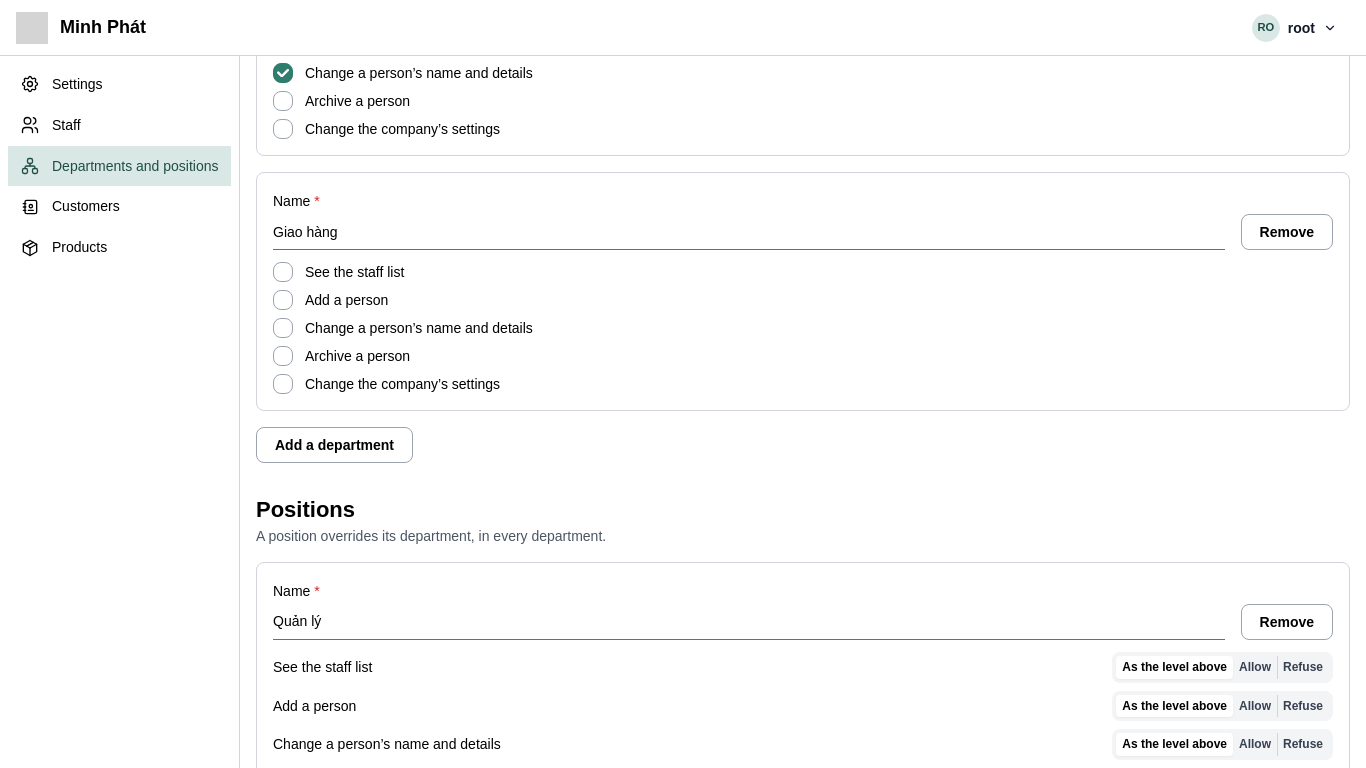
Scenario: Settings by permission › The root gives the permission to a department on the setup page, and its people are offered it
The width and height of the screenshot is (1366, 768).
(page scrolled)
Click the 2nd checkbox labelled "Change the company’s settings" at coordinates (283, 384), box [273,374,293,394]
(page scrolled)
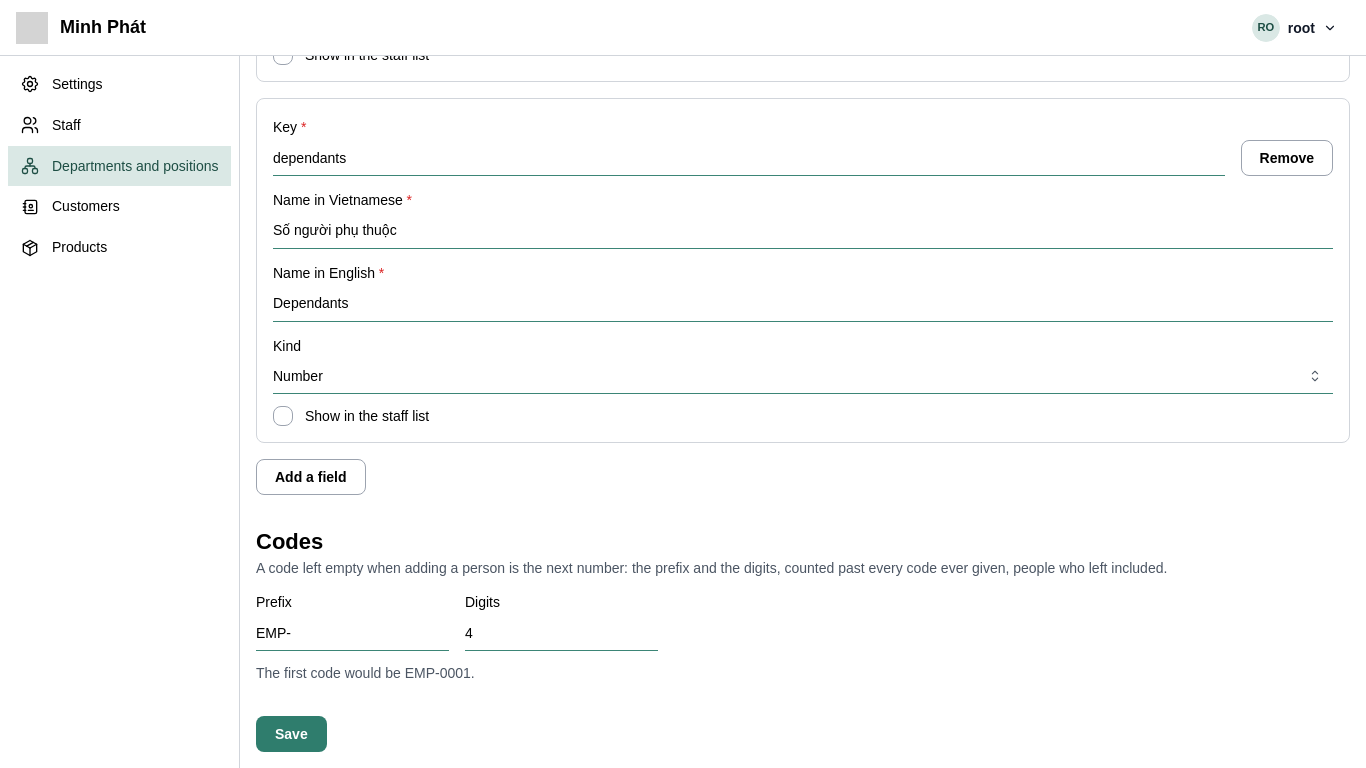
Click the button "Save" at coordinates (291, 734), box [256,716,327,752]
(page scrolled)
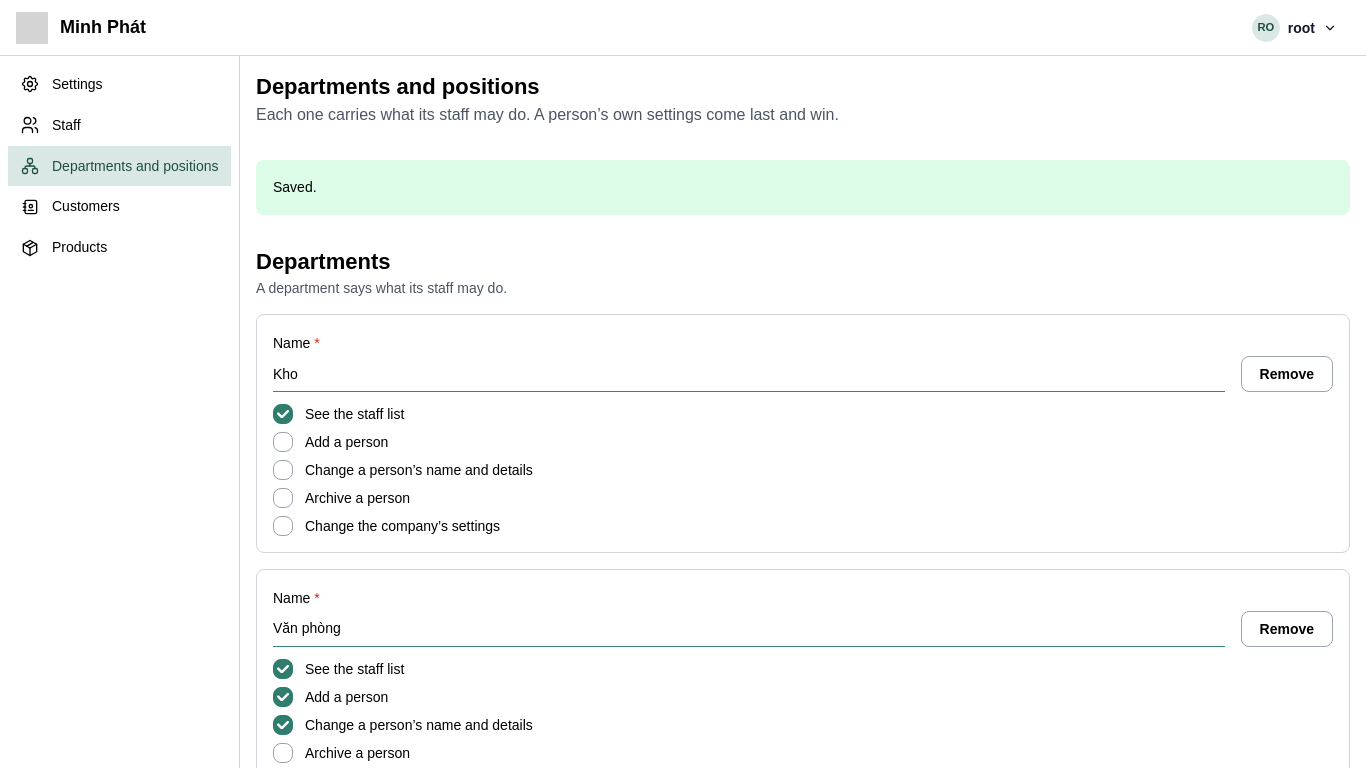
Expected: the text "Saved." is shown, [273,179,317,195]
